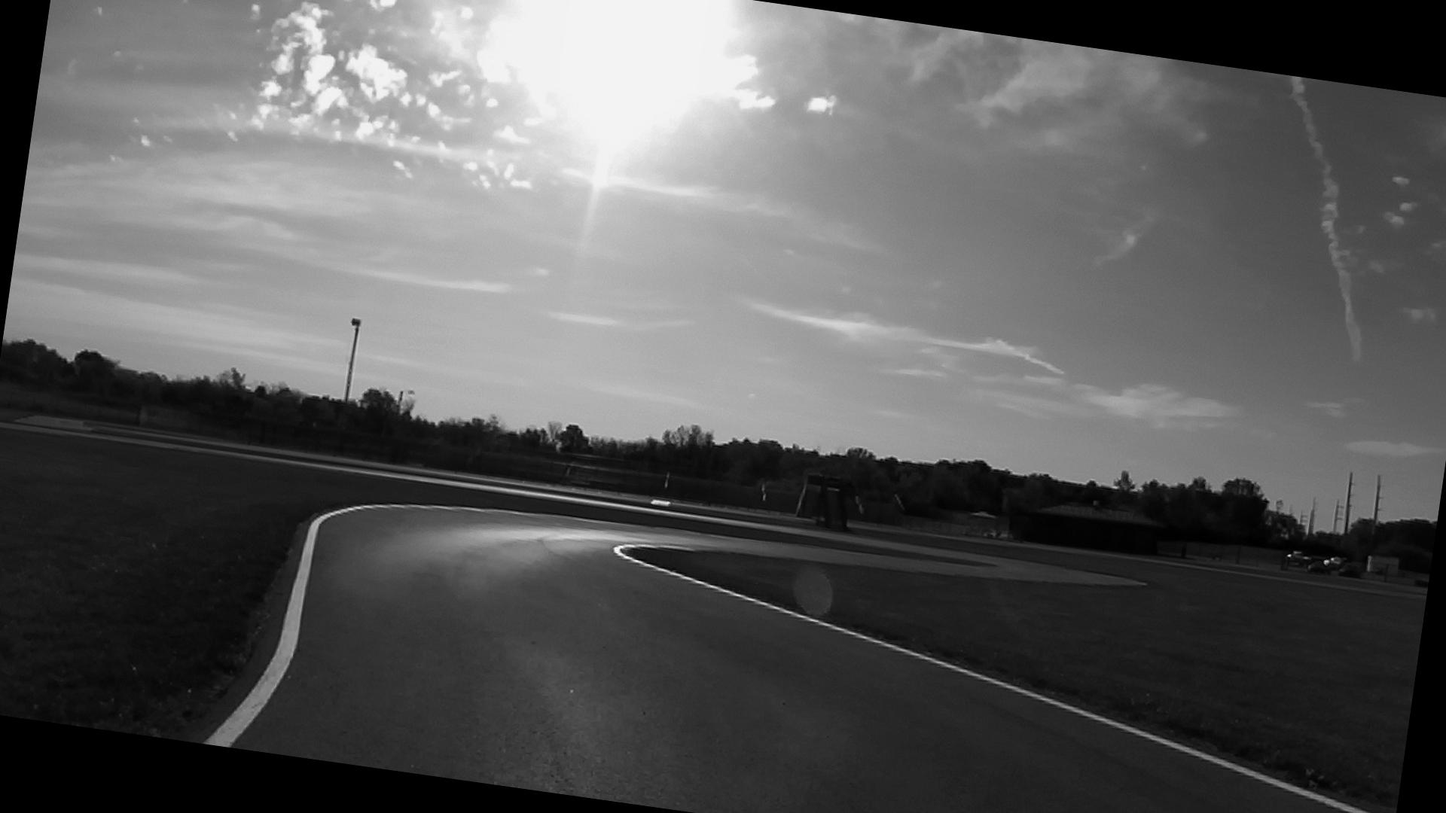white-line: (614, 544, 1376, 813), (201, 503, 597, 748)
